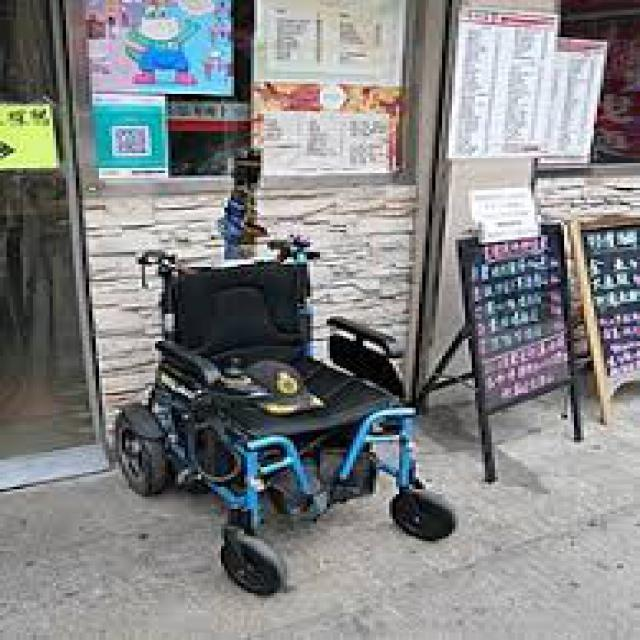wheelchair: (102, 224, 468, 620)
